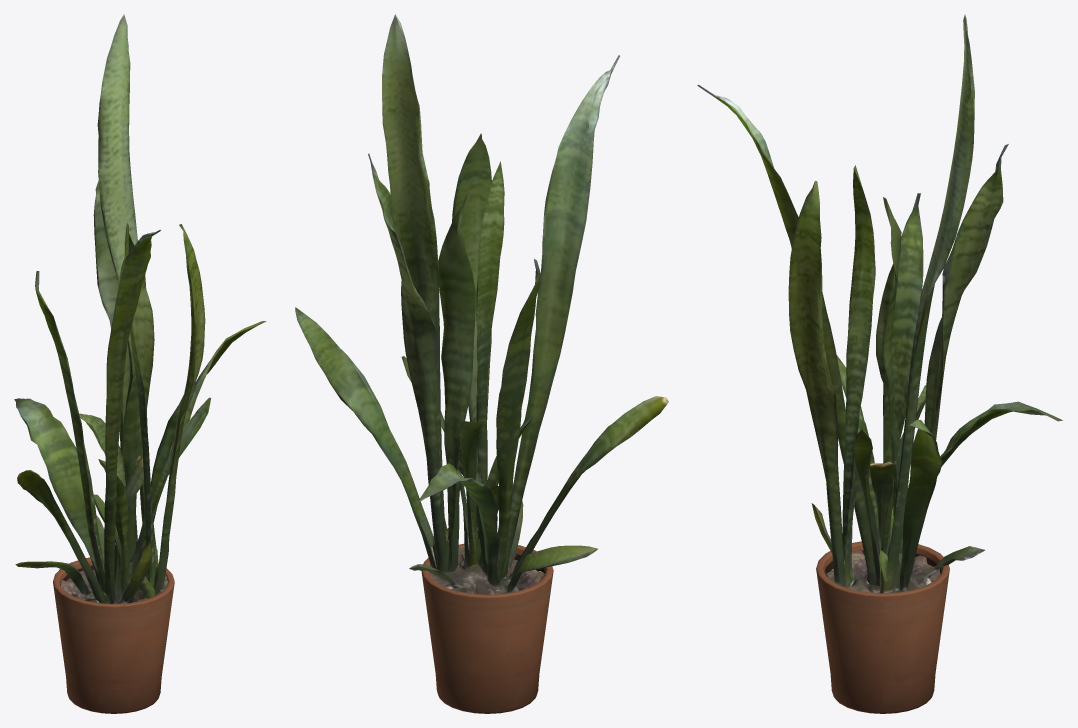
The model's file is plant.glb.
3 renders of one model, left to right at view 1: azimuth 30°, elevation 25°; view 2: azimuth 150°, elevation 25°; view 3: azimuth 270°, elevation 25°, orthographic. The views are drawn at different scales.
Parts seen in each view (by area): view 1: flowerLP_flowerLP_0; view 2: flowerLP_flowerLP_0; view 3: flowerLP_flowerLP_0.
Part boxes in pixels (x1=…): flowerLP_flowerLP_0: x1=14, y1=14, x2=266, y2=713; flowerLP_flowerLP_0: x1=295, y1=14, x2=668, y2=713; flowerLP_flowerLP_0: x1=697, y1=14, x2=1063, y2=713.
Size of the model in its own units: 0.373 by 0.7705 by 0.3626.
1 material, 1 textured.
